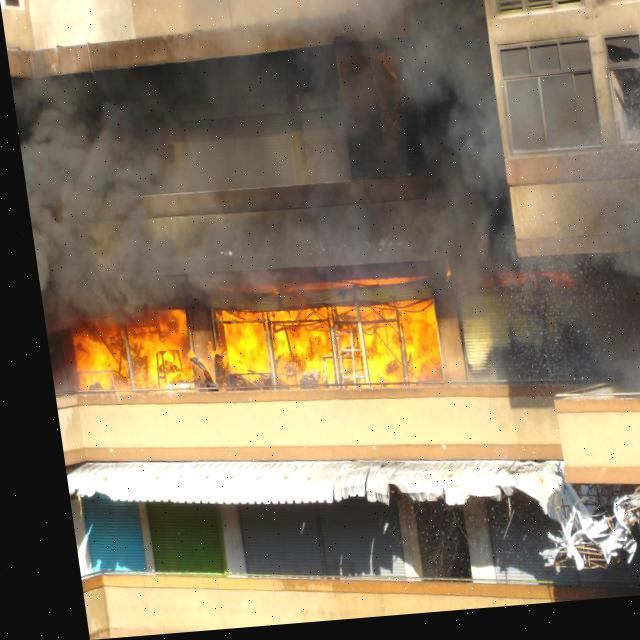Fire: (56, 286, 437, 416)
